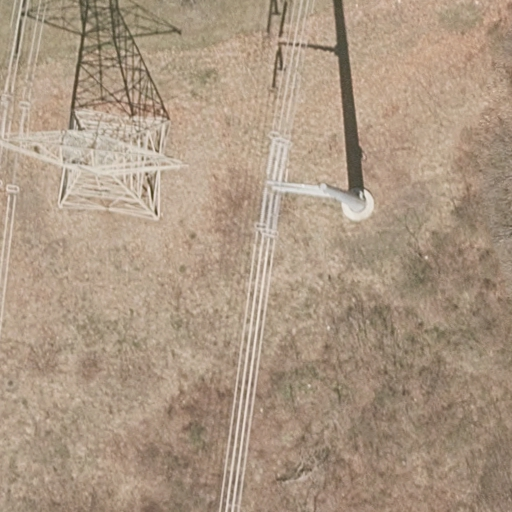TT: (1, 107, 189, 221), (264, 178, 376, 222)
